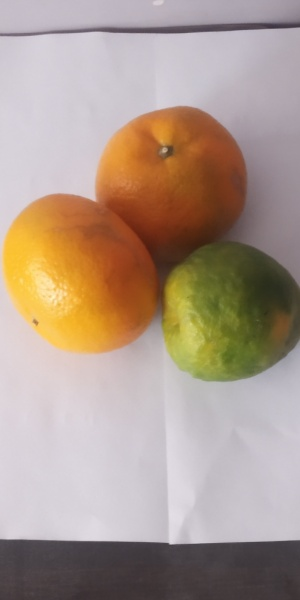BAD: (2, 193, 158, 358), (97, 103, 244, 249), (160, 239, 300, 385)
